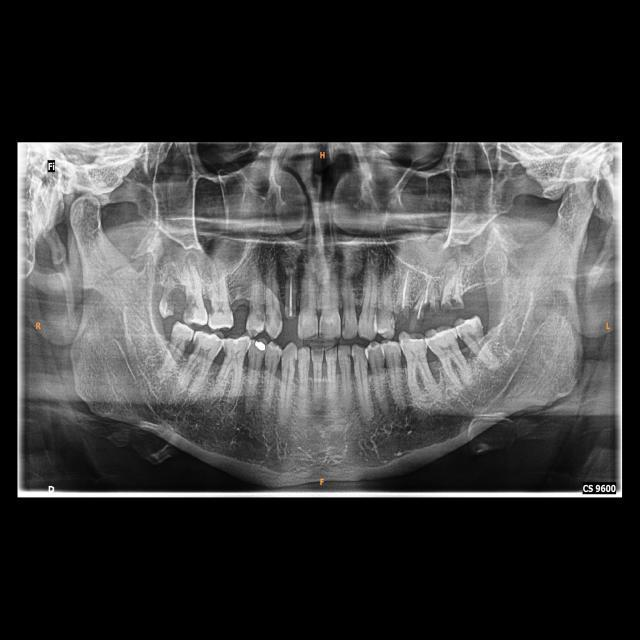dentin-curugu: (182, 292, 198, 320), (164, 288, 175, 316), (443, 295, 462, 310), (188, 339, 200, 357), (209, 300, 219, 320), (254, 311, 267, 324)
dolgu: (249, 336, 268, 356)
kanal-tedavisi: (286, 269, 294, 310), (400, 271, 407, 308), (423, 277, 429, 305)
kirik: (413, 302, 439, 322), (395, 304, 410, 322), (283, 305, 298, 322)
